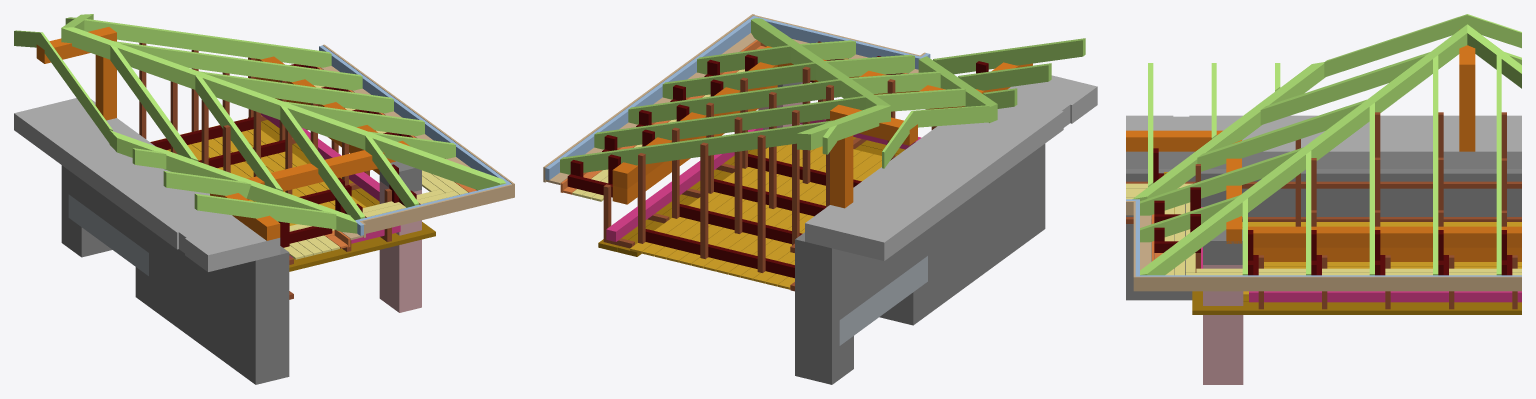
The model's file is krylco.glb.
The picture shows the model from 3 angles, left to right: view 1: azimuth 30°, elevation 25°; view 2: azimuth 150°, elevation 25°; view 3: azimuth 270°, elevation 25°; orthographic projection. The views are drawn at different scales.
Visible parts, largest first — view 1: РљРѕРјРїРѕРЅР_РЅС__136, РљРѕРјРїРѕРЅР_РЅС__138, РљРѕРјРїРѕРЅР_РЅС__145, РљРѕРјРїРѕРЅР_РЅС__159, РљРѕРјРїРѕРЅР_РЅС__158, РљРѕРјРїРѕРЅР_РЅС__144, РљРѕРјРїРѕРЅР_РЅС__137, РљРѕРјРїРѕРЅР_РЅС__157, РљРѕРјРїРѕРЅР_РЅС__143, РљРѕРјРїРѕРЅР_РЅС__154, РљРѕРјРїРѕРЅР_РЅС__139, РљРѕРјРїРѕРЅР_РЅС__164 (+27 smaller); view 2: РљРѕРјРїРѕРЅР_РЅС__136, РљРѕРјРїРѕРЅР_РЅС__138, РљРѕРјРїРѕРЅР_РЅС__158, РљРѕРјРїРѕРЅР_РЅС__159, РљРѕРјРїРѕРЅР_РЅС__157, РљРѕРјРїРѕРЅР_РЅС__143, РљРѕРјРїРѕРЅР_РЅС__214, РљРѕРјРїРѕРЅР_РЅС__145, РљРѕРјРїРѕРЅР_РЅС__164, РљРѕРјРїРѕРЅР_РЅС__160, РљРѕРјРїРѕРЅР_РЅС__261, РљРѕРјРїРѕРЅР_РЅС__169 (+41 smaller); view 3: РљРѕРјРїРѕРЅР_РЅС__138, РљРѕРјРїРѕРЅР_РЅС__136, РљРѕРјРїРѕРЅР_РЅС__145, РљРѕРјРїРѕРЅР_РЅС__156, РљРѕРјРїРѕРЅР_РЅС__167, РљРѕРјРїРѕРЅР_РЅС__170, РљРѕРјРїРѕРЅР_РЅС__137, РљРѕРјРїРѕРЅР_РЅС__144, РљРѕРјРїРѕРЅР_РЅС__166, РљРѕРјРїРѕРЅР_РЅС__169, РљРѕРјРїРѕРЅР_РЅС__150, РљРѕРјРїРѕРЅР_РЅС__151 (+28 smaller).
Boxes of the visible parts, x1,y1,x2,y2 form: РљРѕРјРїРѕРЅР_РЅС__136: (61, 165, 289, 384); РљРѕРјРїРѕРЅР_РЅС__138: (14, 98, 280, 271); РљРѕРјРїРѕРЅР_РЅС__145: (61, 27, 506, 190); РљРѕРјРїРѕРЅР_РЅС__159: (84, 19, 331, 67); РљРѕРјРїРѕРЅР_РЅС__158: (113, 41, 362, 90); РљРѕРјРїРѕРЅР_РЅС__144: (109, 130, 357, 233); РљРѕРјРїРѕРЅР_РЅС__137: (379, 181, 421, 312); РљРѕРјРїРѕРЅР_РЅС__157: (199, 71, 393, 113); РљРѕРјРїРѕРЅР_РЅС__143: (194, 193, 336, 229); РљРѕРјРїРѕРЅР_РЅС__154: (362, 184, 513, 233); РљРѕРјРїРѕРЅР_РЅС__139: (210, 140, 409, 199); РљРѕРјРїРѕРЅР_РЅС__164: (68, 194, 148, 275); РљРѕРјРїРѕРЅР_РЅС__136: (795, 144, 1045, 384); РљРѕРјРїРѕРЅР_РЅС__138: (805, 75, 1097, 260); РљРѕРјРїРѕРЅР_РЅС__158: (594, 96, 865, 149); РљРѕРјРїРѕРЅР_РЅС__159: (560, 120, 833, 174); РљРѕРјРїРѕРЅР_РЅС__157: (628, 79, 840, 124); РљРѕРјРїРѕРЅР_РЅС__143: (933, 38, 1085, 74); РљРѕРјРїРѕРЅР_РЅС__214: (545, 17, 753, 180); РљРѕРјРїРѕРЅР_РЅС__145: (751, 18, 890, 108); РљРѕРјРїРѕРЅР_РЅС__164: (839, 256, 927, 345); РљРѕРјРїРѕРЅР_РЅС__160: (662, 62, 815, 99); РљРѕРјРїРѕРЅР_РЅС__261: (645, 229, 794, 278); РљРѕРјРїРѕРЅР_РЅС__169: (606, 128, 762, 241); РљРѕРјРїРѕРЅР_РЅС__138: (1126, 115, 1521, 168); РљРѕРјРїРѕРЅР_РЅС__136: (1126, 169, 1521, 300); РљРѕРјРїРѕРЅР_РЅС__145: (1140, 24, 1467, 275); РљРѕРјРїРѕРЅР_РЅС__156: (1133, 276, 1521, 291); РљРѕРјРїРѕРЅР_РЅС__167: (1248, 226, 1521, 247); РљРѕРјРїРѕРЅР_РЅС__170: (1192, 302, 1521, 314); РљРѕРјРїРѕРЅР_РЅС__137: (1203, 265, 1243, 384); РљРѕРјРїРѕРЅР_РЅС__144: (1132, 62, 1325, 200); РљРѕРјРїРѕРЅР_РЅС__166: (1253, 247, 1521, 261); РљРѕРјРїРѕРЅР_РЅС__169: (1249, 291, 1521, 302); РљРѕРјРїРѕРЅР_РЅС__150: (1260, 52, 1429, 124); РљРѕРјРїРѕРЅР_РЅС__151: (1197, 99, 1366, 171).
Size of the model in its own units: 3.46 by 2.56 by 3.74.
